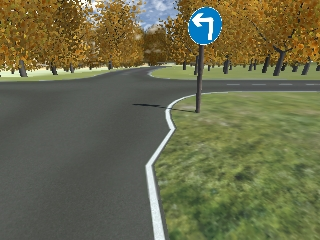left: (186, 7, 225, 43)
